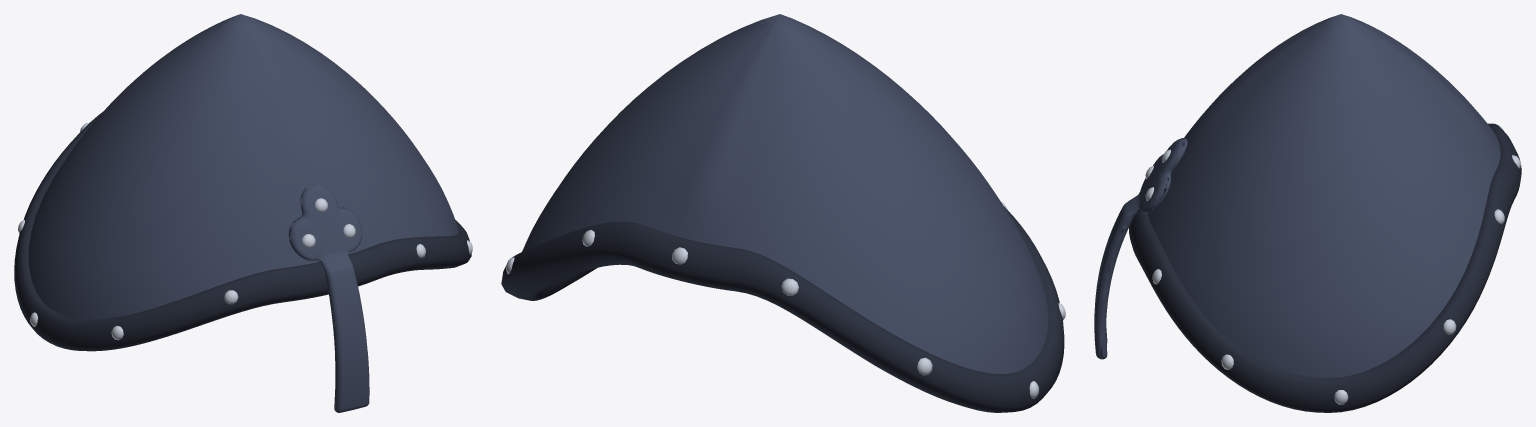
Rendered from nasal-helmet.glb.
3 renders of one model, left to right at view 1: azimuth 30°, elevation 25°; view 2: azimuth 150°, elevation 25°; view 3: azimuth 270°, elevation 25°, orthographic. The views are drawn at different scales.
Visible parts, largest first — view 1: nasal_helmet_skull, nasal_helmet_band, nasal_helmet_nasal, nasal_helmet_rivets; view 2: nasal_helmet_skull, nasal_helmet_band, nasal_helmet_rivets; view 3: nasal_helmet_skull, nasal_helmet_band, nasal_helmet_nasal, nasal_helmet_rivets.
Boxes of the visible parts, x1,y1,x2,y2 form: nasal_helmet_skull: (28, 14, 458, 319); nasal_helmet_band: (14, 112, 471, 351); nasal_helmet_nasal: (288, 183, 369, 412); nasal_helmet_rivets: (18, 122, 472, 340); nasal_helmet_skull: (522, 14, 1048, 373); nasal_helmet_band: (501, 206, 1064, 412); nasal_helmet_rivets: (506, 202, 1065, 398); nasal_helmet_skull: (1148, 14, 1500, 377); nasal_helmet_band: (1129, 123, 1521, 412); nasal_helmet_nasal: (1094, 138, 1187, 359); nasal_helmet_rivets: (1145, 125, 1520, 404).
Bounding box in the file's own units: 1.36 × 0.9769 × 1.12.
